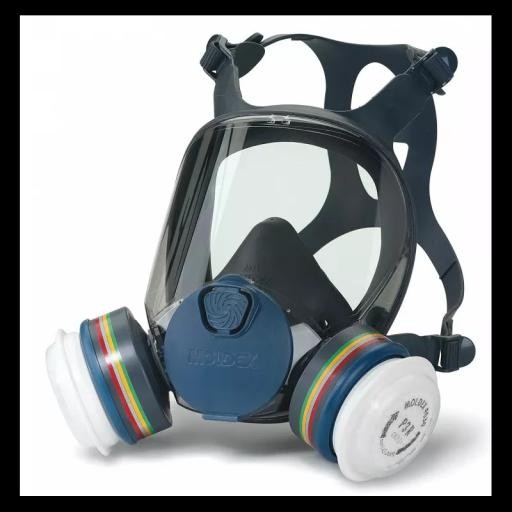mask: (48, 106, 446, 485)
